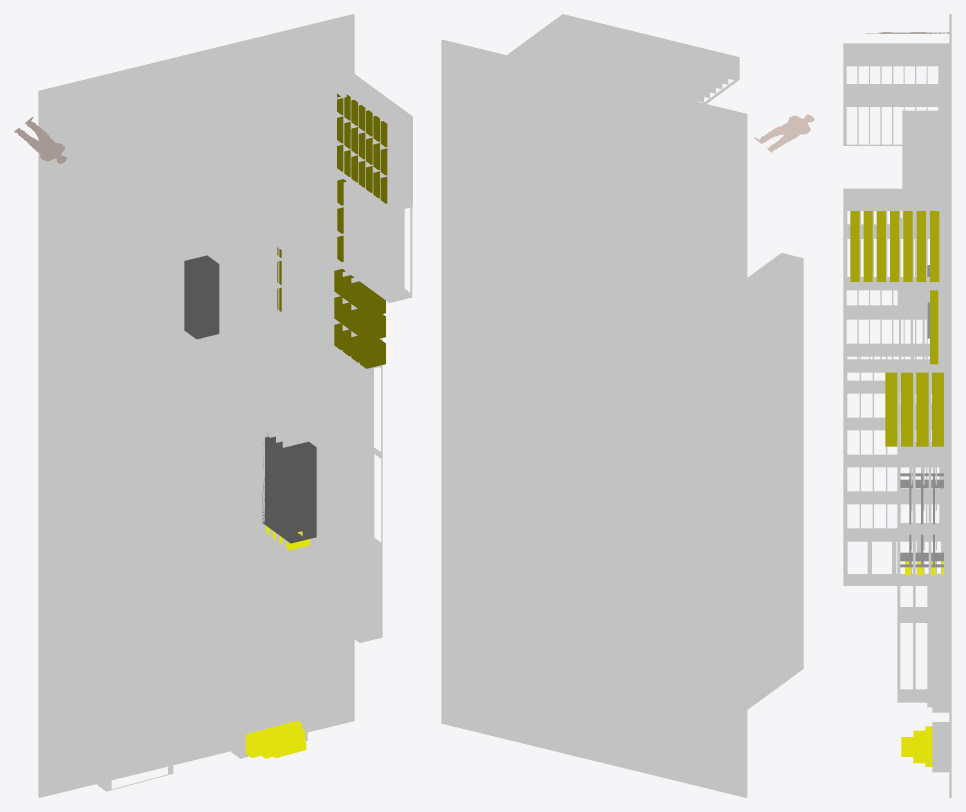
The model's file is farmacia.glb.
3 views of the same model, side by side, from view 1: azimuth 30°, elevation 25°; view 2: azimuth 150°, elevation 25°; view 3: azimuth 270°, elevation 25° (orthographic). The views are drawn at different scales.
Parts seen in each view (by area): view 1: LadoDireito, areai1, areai3, areai4, LadoEscquerdo, SketchUp, Componente_29, Componente_17, Componente_28, check-out_med, Componente_24, Componente_23 (+34 smaller); view 2: LadoEscquerdo, LadoDireito, areai1, areai3, areai4, check-out_med, Componente_29, Componente_17, Componente_28, Componente_18, Componente_10, Componente_13 (+6 smaller); view 3: SketchUp, Componente_23, Componente_28, Componente_24, Componente_29, Componente_1, LadoDireito, group_3, group_4, Componente_10, Componente_12, Componente_11 (+45 smaller).
Boxes of the visible parts, x1=… form: LadoDireito: x1=287, y1=14, x2=354, y2=732; areai1: x1=106, y1=536, x2=288, y2=780; areai3: x1=120, y1=333, x2=288, y2=561; areai4: x1=106, y1=156, x2=288, y2=357; LadoEscquerdo: x1=38, y1=74, x2=105, y2=797; SketchUp: x1=331, y1=171, x2=382, y2=552; Componente_29: x1=105, y1=53, x2=255, y2=141; Componente_17: x1=39, y1=324, x2=120, y2=456; Componente_28: x1=199, y1=31, x2=346, y2=119; check-out_med: x1=105, y1=30, x2=288, y2=165; Componente_24: x1=337, y1=177, x2=412, y2=302; Componente_23: x1=331, y1=74, x2=412, y2=212; LadoEscquerdo: x1=682, y1=98, x2=747, y2=797; LadoDireito: x1=441, y1=39, x2=506, y2=738; areai1: x1=505, y1=539, x2=681, y2=782; areai3: x1=505, y1=342, x2=681, y2=582; areai4: x1=505, y1=159, x2=681, y2=385; check-out_med: x1=505, y1=55, x2=682, y2=202; Componente_29: x1=595, y1=35, x2=739, y2=103; Componente_17: x1=747, y1=297, x2=803, y2=425; Componente_28: x1=507, y1=14, x2=650, y2=76; Componente_18: x1=747, y1=253, x2=803, y2=338; Componente_10: x1=747, y1=620, x2=803, y2=709; Componente_13: x1=747, y1=502, x2=803, y2=582; SketchUp: x1=897, y1=224, x2=949, y2=619; Componente_23: x1=843, y1=197, x2=949, y2=290; Componente_28: x1=843, y1=84, x2=949, y2=145; Componente_24: x1=843, y1=290, x2=949, y2=372; Componente_29: x1=843, y1=43, x2=949, y2=83; Componente_1: x1=897, y1=620, x2=949, y2=702; LadoDireito: x1=949, y1=124, x2=951, y2=797; group_3: x1=902, y1=158, x2=949, y2=221; group_4: x1=902, y1=110, x2=949, y2=157; Componente_10: x1=843, y1=540, x2=943, y2=585; Componente_12: x1=843, y1=466, x2=943, y2=502; Componente_11: x1=843, y1=503, x2=943, y2=539.
Size of the model in its own units: 304 by 594 by 90.55.
